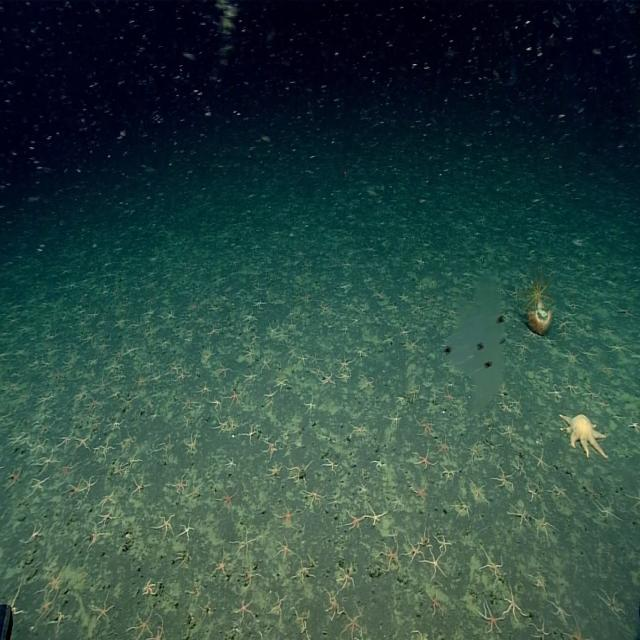brittle-stars: (290, 605, 313, 640), (42, 564, 67, 596), (233, 529, 259, 559), (504, 587, 525, 623), (481, 603, 504, 635), (92, 593, 115, 624), (340, 609, 363, 640), (598, 590, 623, 618), (482, 551, 505, 581), (129, 612, 153, 640), (266, 591, 288, 620), (380, 543, 401, 573), (563, 619, 593, 640), (336, 563, 357, 591), (425, 551, 445, 579), (154, 514, 177, 538), (92, 437, 115, 461), (276, 504, 298, 529), (234, 596, 256, 620), (324, 589, 342, 618), (212, 550, 230, 579), (550, 595, 570, 621), (510, 502, 530, 527), (293, 558, 313, 583), (535, 513, 554, 539), (287, 462, 309, 484), (365, 504, 387, 526), (84, 528, 106, 550), (36, 449, 58, 471), (24, 521, 45, 544), (4, 466, 22, 492), (216, 488, 237, 510), (241, 564, 262, 586), (406, 539, 425, 563), (37, 594, 56, 618), (414, 448, 434, 470), (172, 547, 191, 570), (119, 428, 137, 452), (276, 535, 294, 559), (52, 606, 70, 630), (494, 467, 514, 488), (452, 496, 471, 518), (531, 618, 550, 640), (596, 500, 616, 520), (304, 488, 324, 508), (30, 476, 50, 496), (412, 478, 428, 503), (131, 476, 149, 498), (532, 449, 550, 471), (470, 481, 487, 504), (428, 592, 444, 616), (158, 437, 176, 458), (59, 459, 78, 478), (346, 511, 364, 531), (34, 391, 55, 408), (179, 519, 195, 541), (172, 476, 188, 498), (437, 437, 453, 459), (47, 367, 64, 387), (189, 482, 205, 503), (438, 531, 453, 553), (350, 422, 368, 440), (31, 438, 49, 456), (499, 422, 516, 441), (352, 343, 369, 362), (228, 388, 244, 408), (242, 423, 258, 443), (183, 434, 198, 455), (551, 485, 569, 502), (66, 481, 83, 499), (100, 491, 116, 510), (83, 477, 99, 496), (231, 392, 247, 411), (98, 511, 115, 528), (148, 622, 164, 640), (467, 440, 480, 462), (265, 438, 279, 458), (143, 578, 157, 598), (268, 462, 284, 479), (564, 348, 580, 365), (74, 436, 90, 453), (442, 464, 458, 481), (95, 377, 112, 393), (554, 480, 570, 497), (605, 342, 624, 356), (627, 490, 640, 510), (113, 459, 126, 479), (215, 361, 231, 377), (564, 379, 579, 396), (419, 420, 434, 437), (59, 434, 74, 451), (411, 629, 433, 640), (323, 457, 338, 473), (359, 376, 374, 392), (581, 345, 597, 360), (339, 354, 354, 370), (106, 359, 121, 375), (83, 398, 98, 414), (180, 393, 194, 410), (338, 370, 353, 385), (372, 456, 387, 471), (319, 372, 333, 388), (584, 387, 600, 401), (516, 340, 530, 356), (125, 342, 139, 358), (128, 454, 142, 470), (242, 346, 256, 362), (303, 396, 314, 416), (286, 343, 297, 363), (243, 370, 258, 384), (388, 413, 402, 428), (549, 384, 563, 399), (210, 396, 223, 412), (109, 416, 122, 432), (135, 374, 148, 390), (214, 417, 227, 433), (296, 350, 308, 367), (306, 394, 316, 414), (392, 492, 403, 510), (276, 377, 290, 391), (628, 418, 640, 434), (269, 321, 281, 337), (262, 354, 273, 371), (114, 314, 127, 328), (175, 370, 188, 384), (498, 399, 511, 413), (285, 318, 298, 332), (408, 384, 421, 398), (244, 310, 256, 325), (445, 389, 457, 404), (310, 351, 322, 366), (248, 331, 260, 346), (357, 481, 368, 497), (224, 456, 237, 469), (210, 323, 222, 337), (253, 296, 266, 308), (512, 394, 523, 408), (397, 290, 409, 302)
